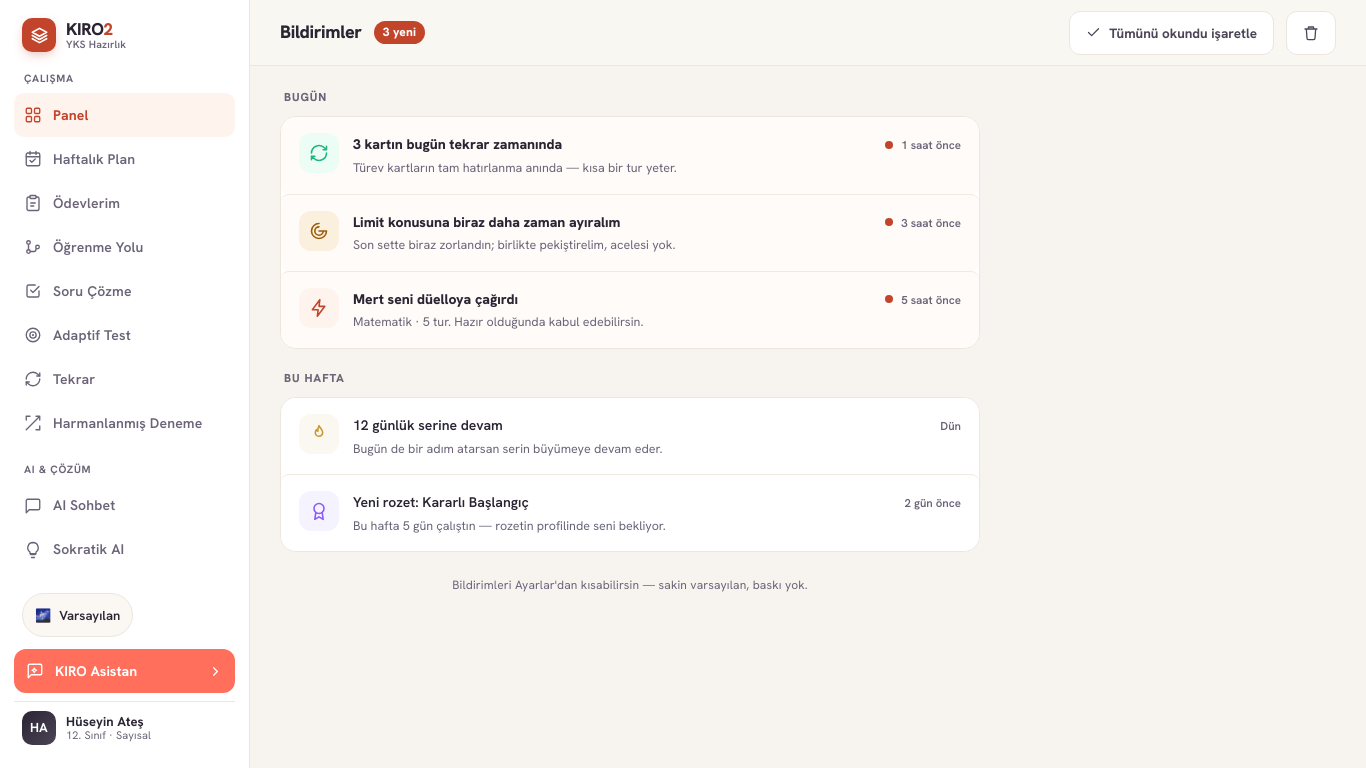
Test: BildirimMerkeziPage › "Bildirimleri temizle" boş-durumu açar (serif "Her şey sakin.")
Expected: the text "3 kartın bugün tekrar zamanında" is shown, [353, 135, 562, 153]
Click the button named "Bildirimleri temizle".
click(1311, 32)  # box [1286, 10, 1336, 54]
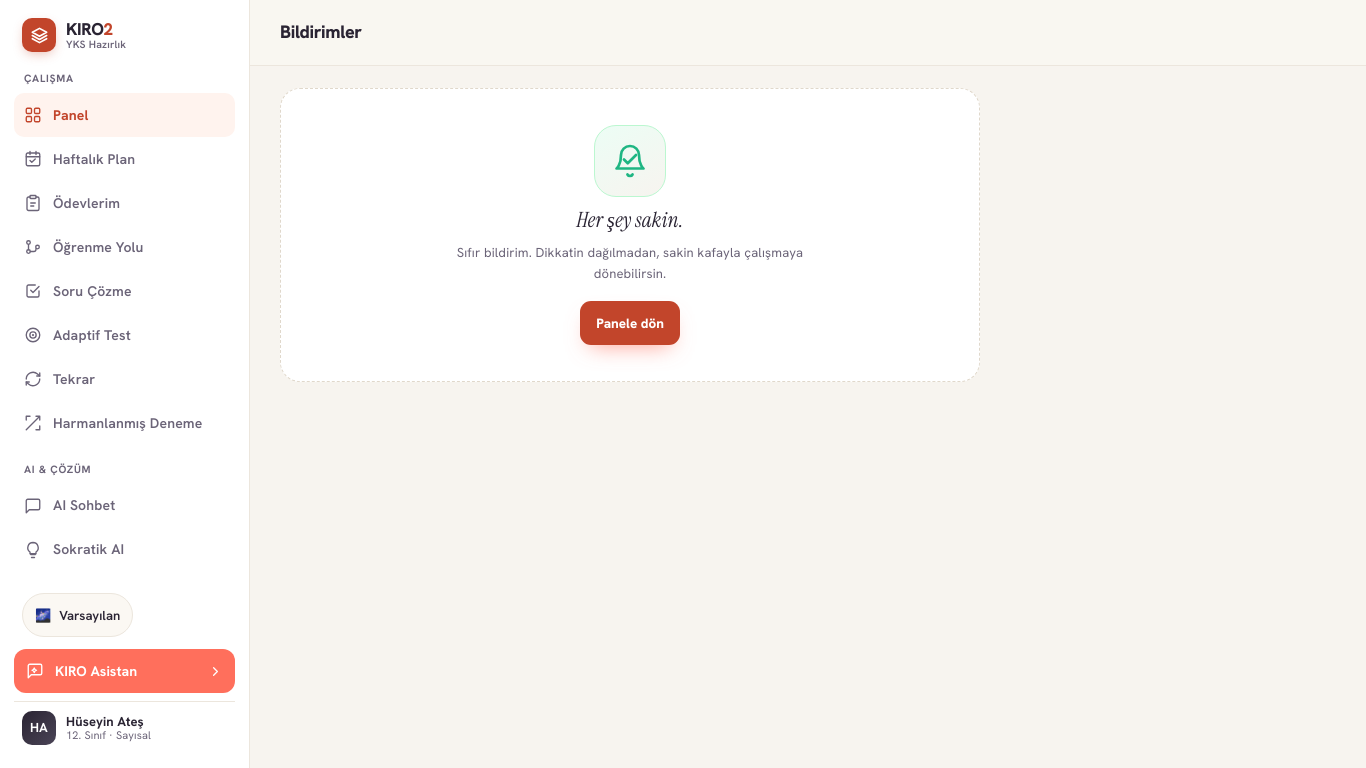
Expected: the text "Her şey sakin." is shown, [577, 207, 684, 233]
Expected: the button "3 kartın bugün tekrar zamanında" is gone
Expected: the button "Panele dön" is shown, [580, 301, 680, 345]
